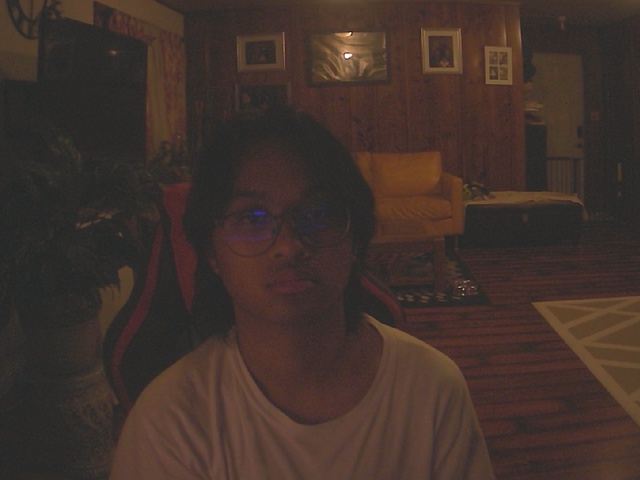neutral: (184, 102, 381, 344)
